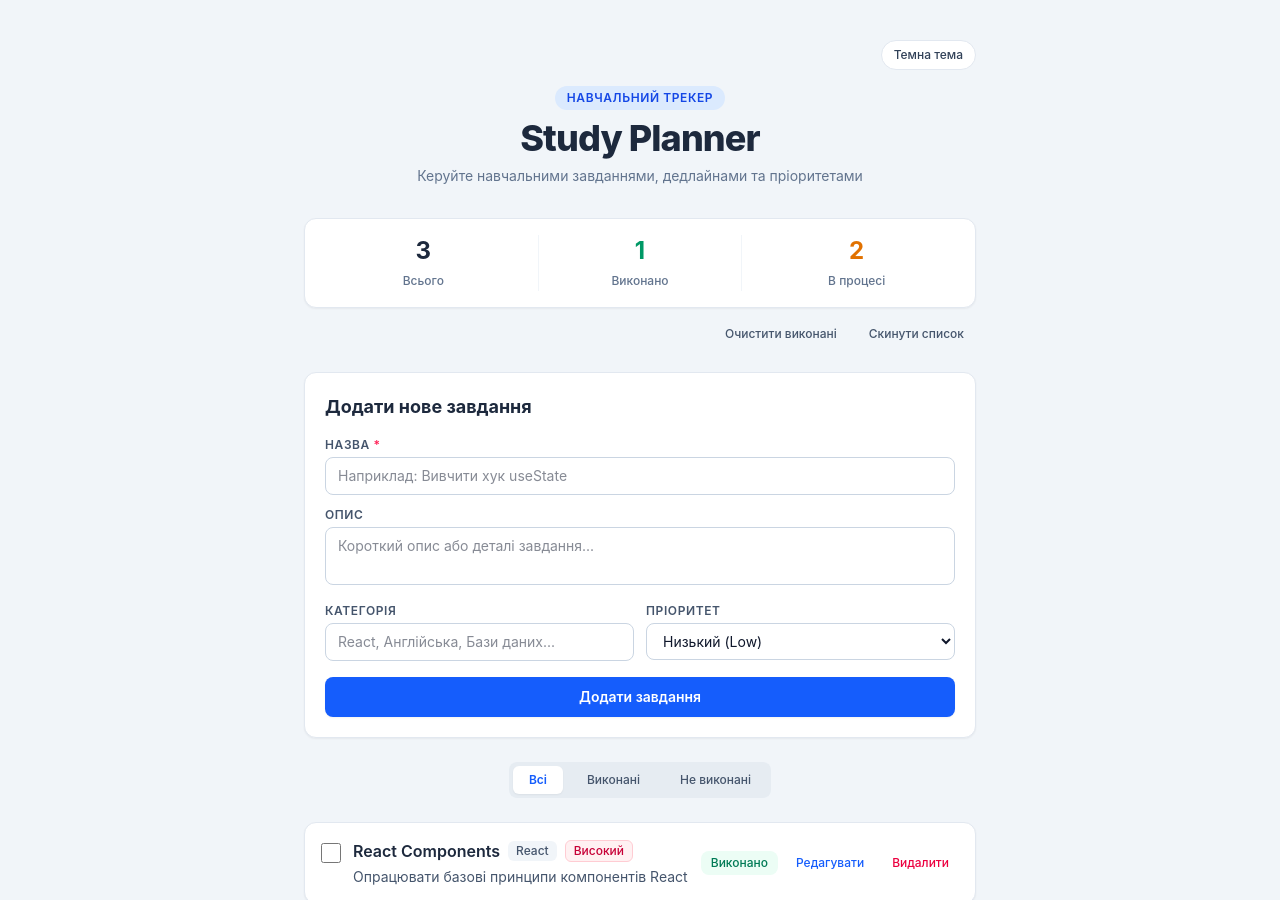
Test: Study Planner (App) › дозволяє додати нове завдання у список
This screenshot has width=1280, height=900.
Step 1. Type "Нове тестове завдання" into the field with placeholder "Наприклад: Вивчити хук useState" → (640, 476), box [325, 457, 955, 495]
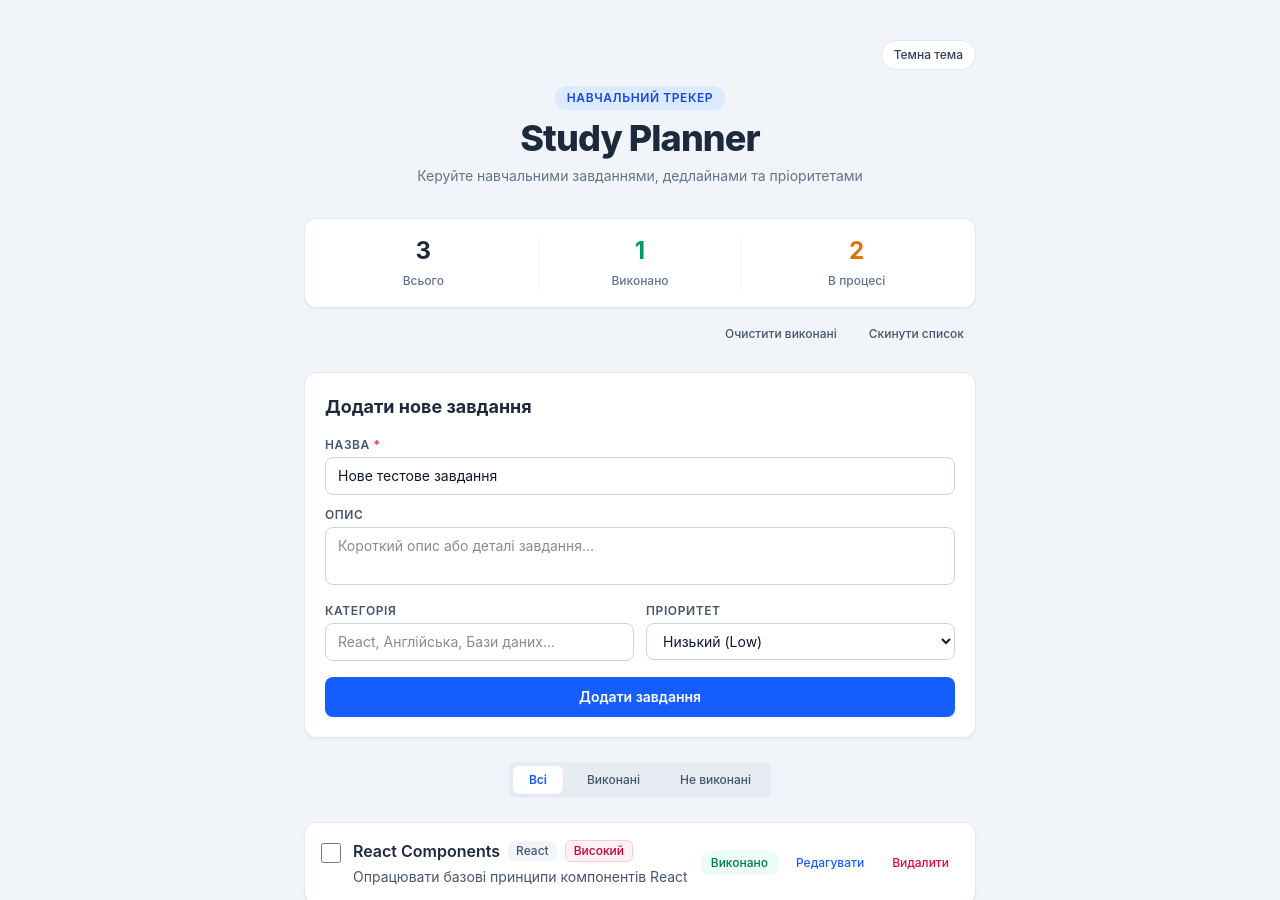
Step 2. Click the button "Додати завдання" → (640, 697), box [325, 677, 955, 717]
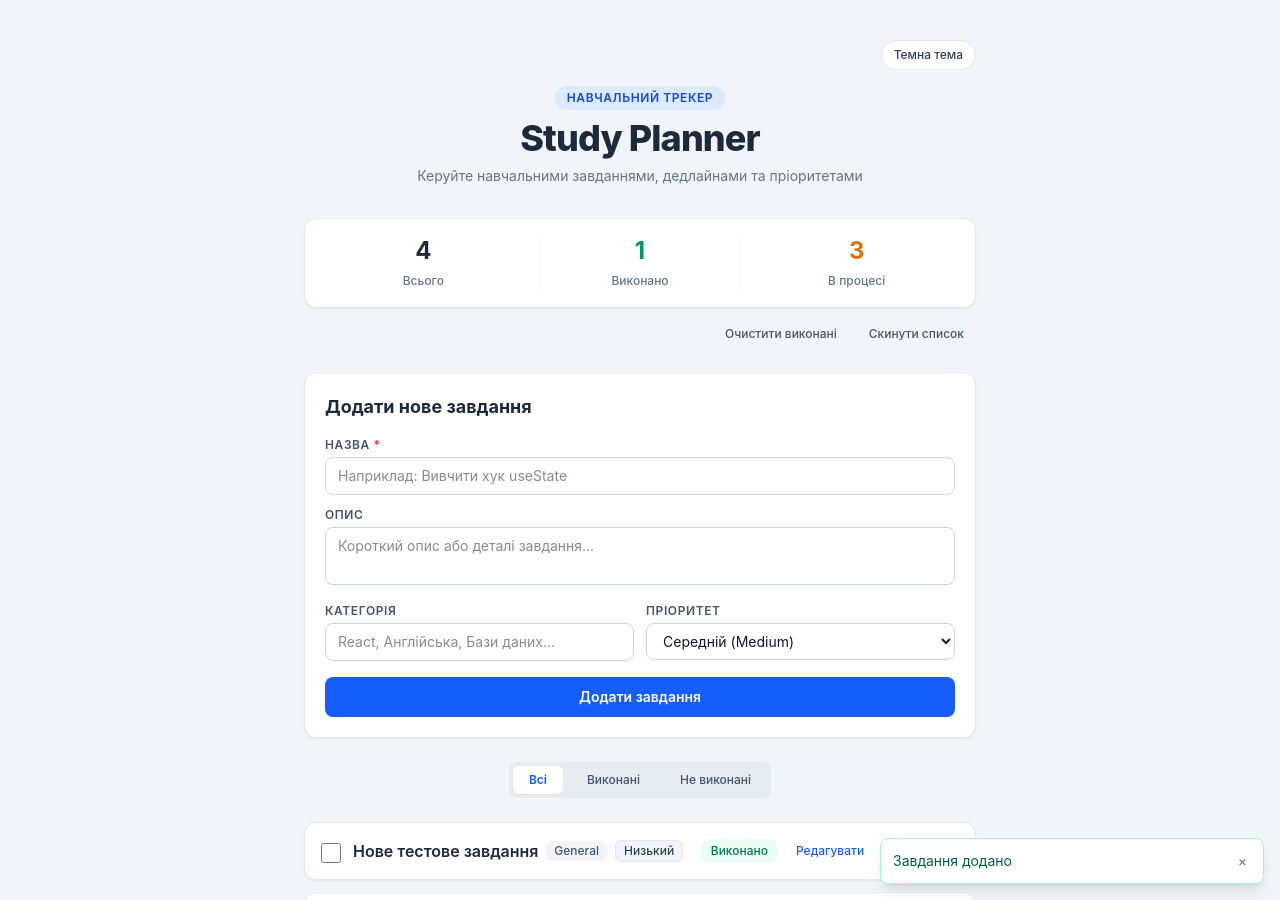
Check: the heading "Нове тестове завдання" is shown, box [353, 839, 538, 863]
